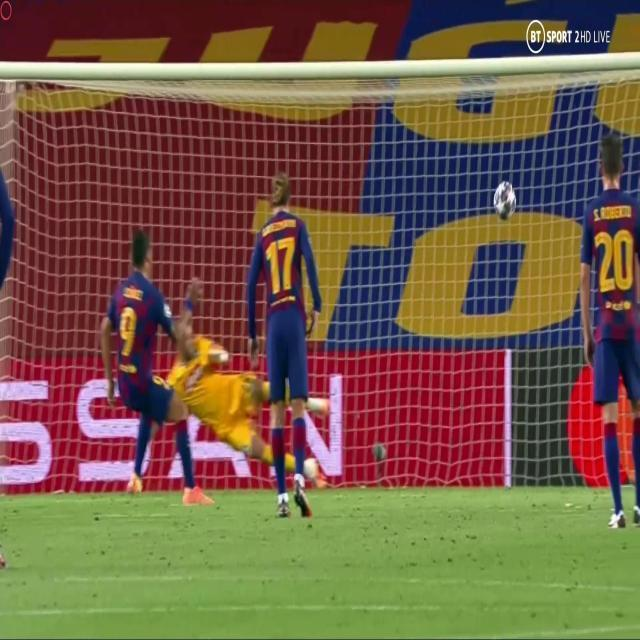ball: (491, 174, 519, 223)
goalkeeper: (149, 272, 269, 505)
player: (240, 153, 331, 518), (95, 226, 207, 507), (569, 118, 640, 524)
